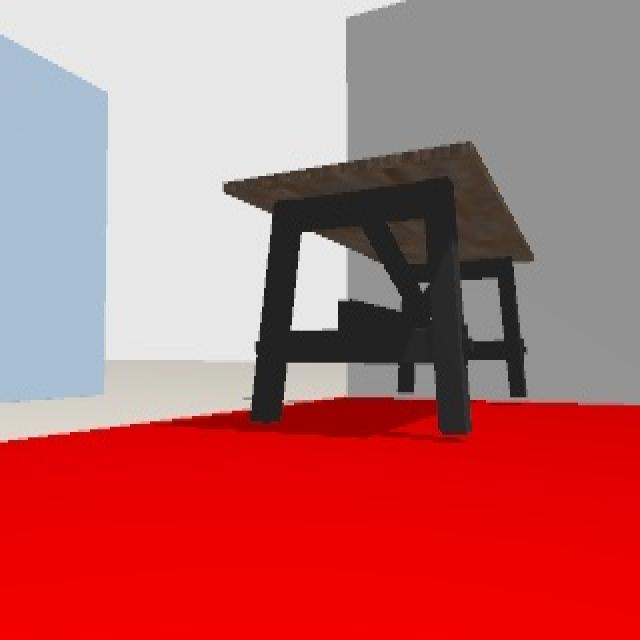dining: (220, 138, 531, 432)
